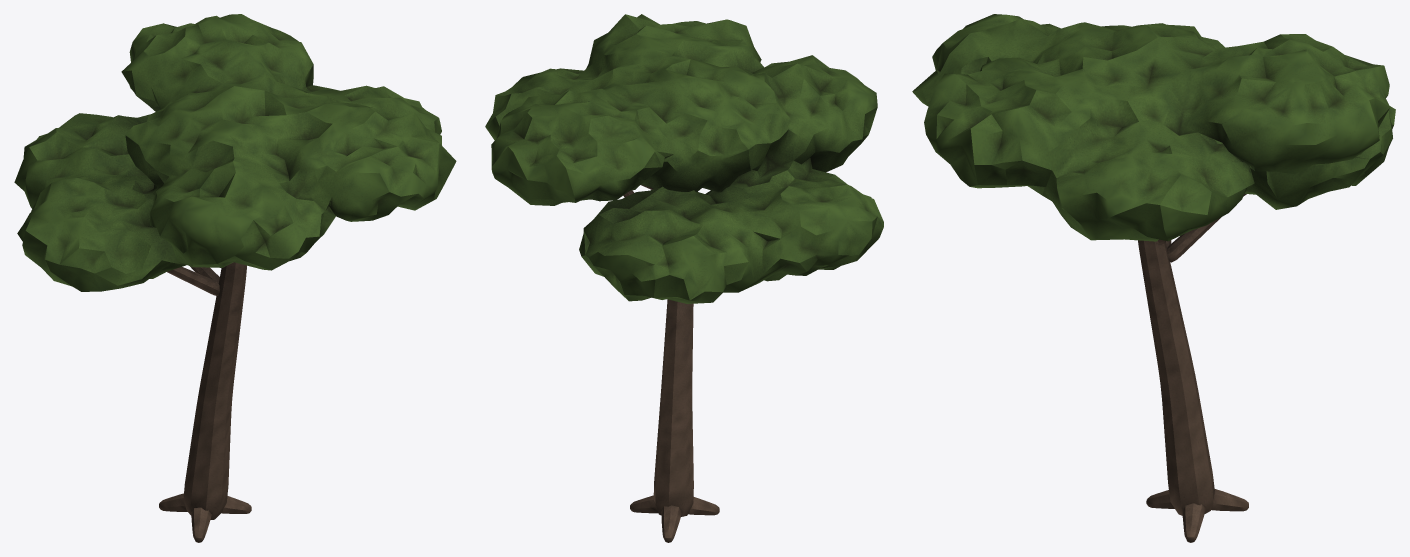
Rendered from costa_pinheiro_c.glb.
3 views of the same model, side by side, from view 1: azimuth 30°, elevation 25°; view 2: azimuth 150°, elevation 25°; view 3: azimuth 270°, elevation 25° (orthographic). The views are drawn at different scales.
Visible parts, largest first — view 1: costa_pinheiro_c; view 2: costa_pinheiro_c; view 3: costa_pinheiro_c.
Part boxes in pixels (bbox=[...]): costa_pinheiro_c: bbox=[14, 14, 456, 542]; costa_pinheiro_c: bbox=[485, 14, 883, 542]; costa_pinheiro_c: bbox=[912, 14, 1395, 542].
Bounding box in the file's own units: 5.05 × 5.52 × 4.85.
Materials: 1 (1 with a texture image).
